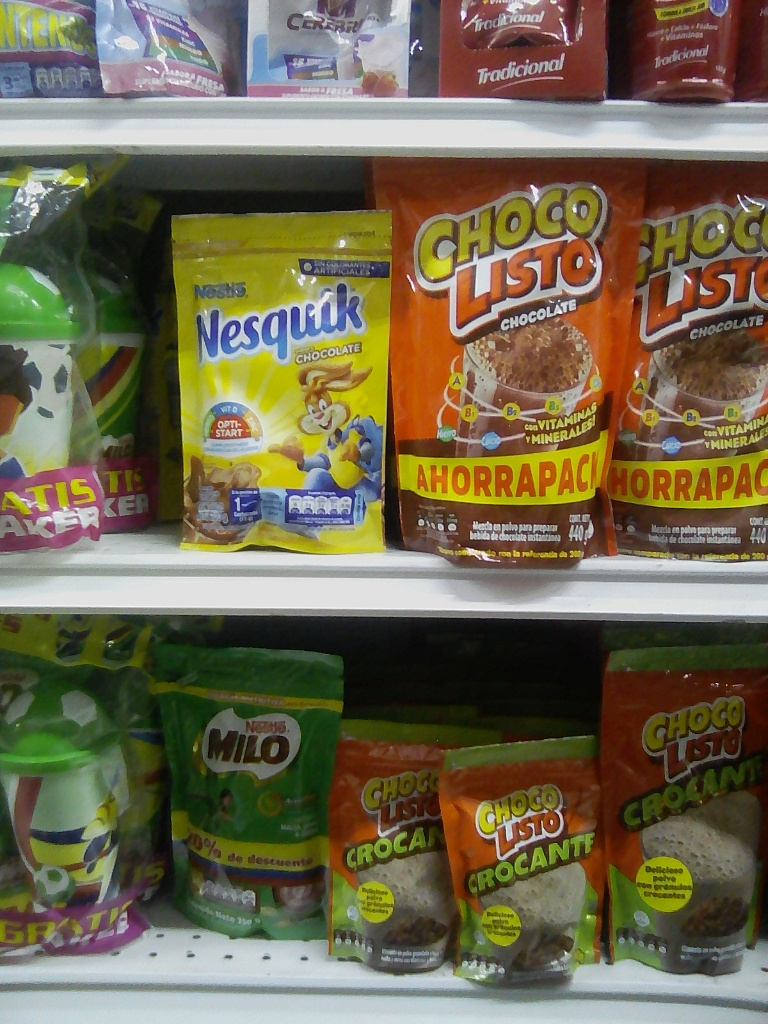COL0170102DYP10000: (327, 718, 477, 961)
COL0170102DYP25000: (599, 648, 768, 967)
COL0170103DYP44000: (378, 154, 633, 561)
COL0170203DYP25000: (151, 643, 347, 954)
COL0170303DYP20000: (173, 209, 403, 567)
